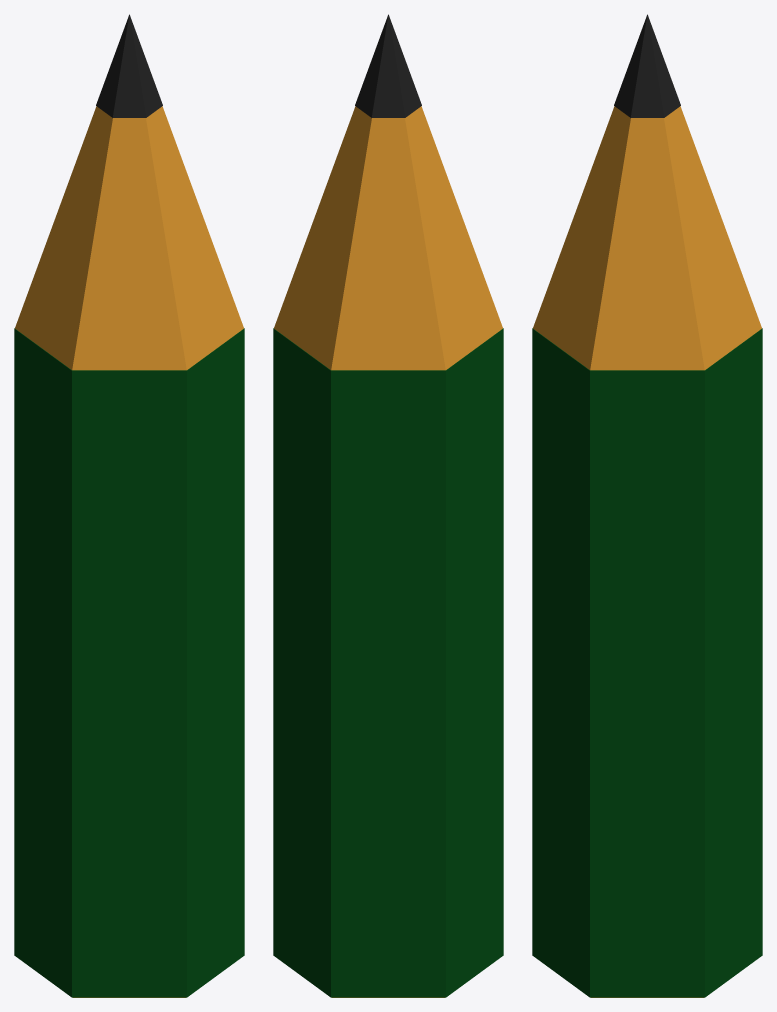
File: pencil.fbx
3 renders of one model, left to right at view 1: azimuth 30°, elevation 25°; view 2: azimuth 150°, elevation 25°; view 3: azimuth 270°, elevation 25°, orthographic.
Visible parts, largest first — view 1: 円柱.001, 円錐, 円錐.001; view 2: 円柱.001, 円錐, 円錐.001; view 3: 円柱.001, 円錐, 円錐.001.
Part boxes in pixels (x1=…): 円柱.001: x1=14, y1=328, x2=244, y2=997; 円錐: x1=15, y1=106, x2=243, y2=370; 円錐.001: x1=96, y1=14, x2=162, y2=117; 円柱.001: x1=273, y1=328, x2=503, y2=997; 円錐: x1=274, y1=106, x2=502, y2=370; 円錐.001: x1=355, y1=14, x2=421, y2=117; 円柱.001: x1=532, y1=328, x2=762, y2=997; 円錐: x1=533, y1=106, x2=761, y2=370; 円錐.001: x1=614, y1=14, x2=680, y2=117.
Size of the model in its own units: 173 by 902 by 200.
